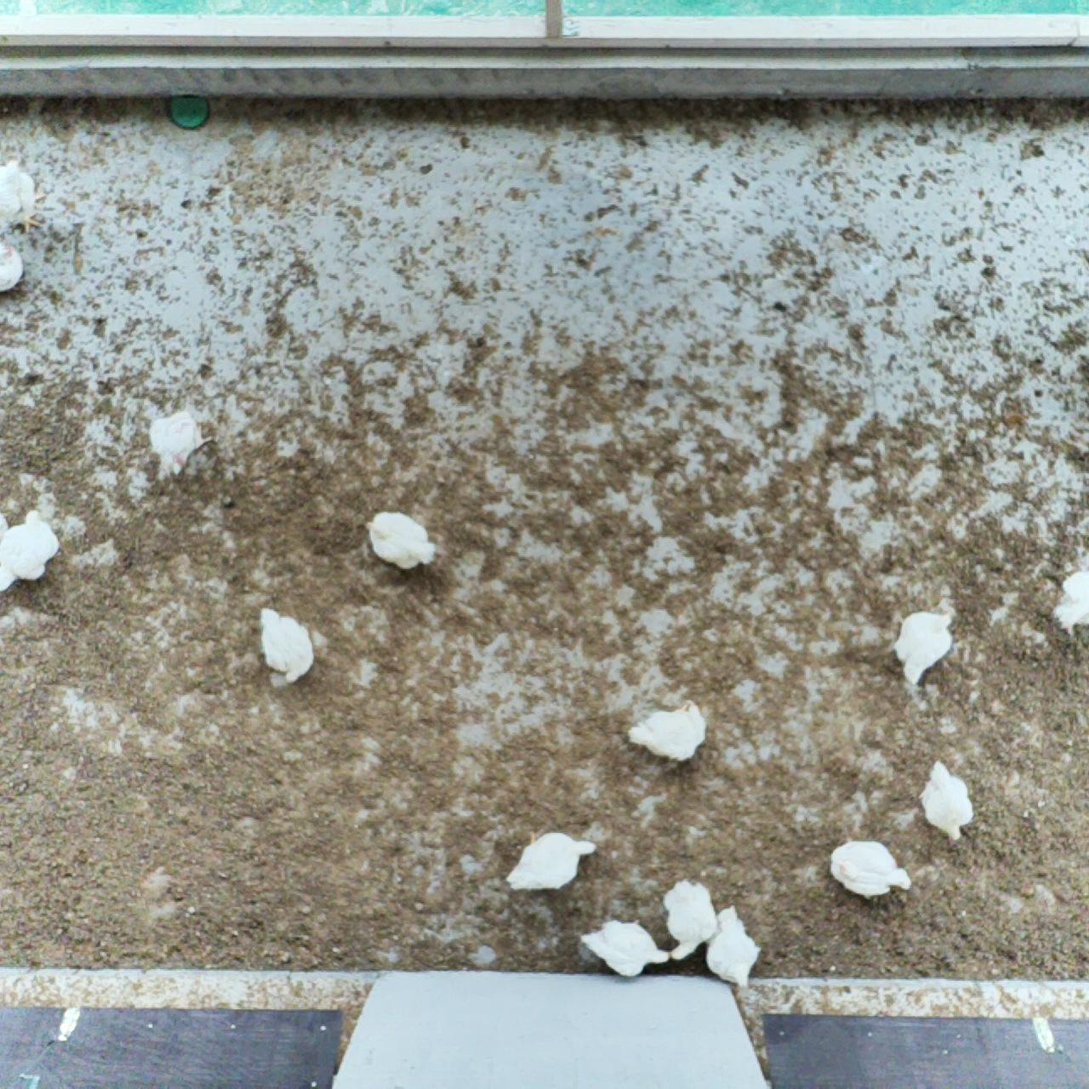chicken: (503, 821, 600, 898), (881, 602, 963, 688), (824, 831, 917, 905), (622, 694, 712, 769), (912, 752, 980, 849), (577, 916, 673, 980), (252, 603, 320, 690), (357, 504, 439, 575), (147, 400, 217, 480), (703, 901, 764, 990), (1, 505, 67, 587), (660, 875, 719, 966), (0, 154, 53, 236), (1047, 565, 1089, 640), (0, 239, 31, 297)
